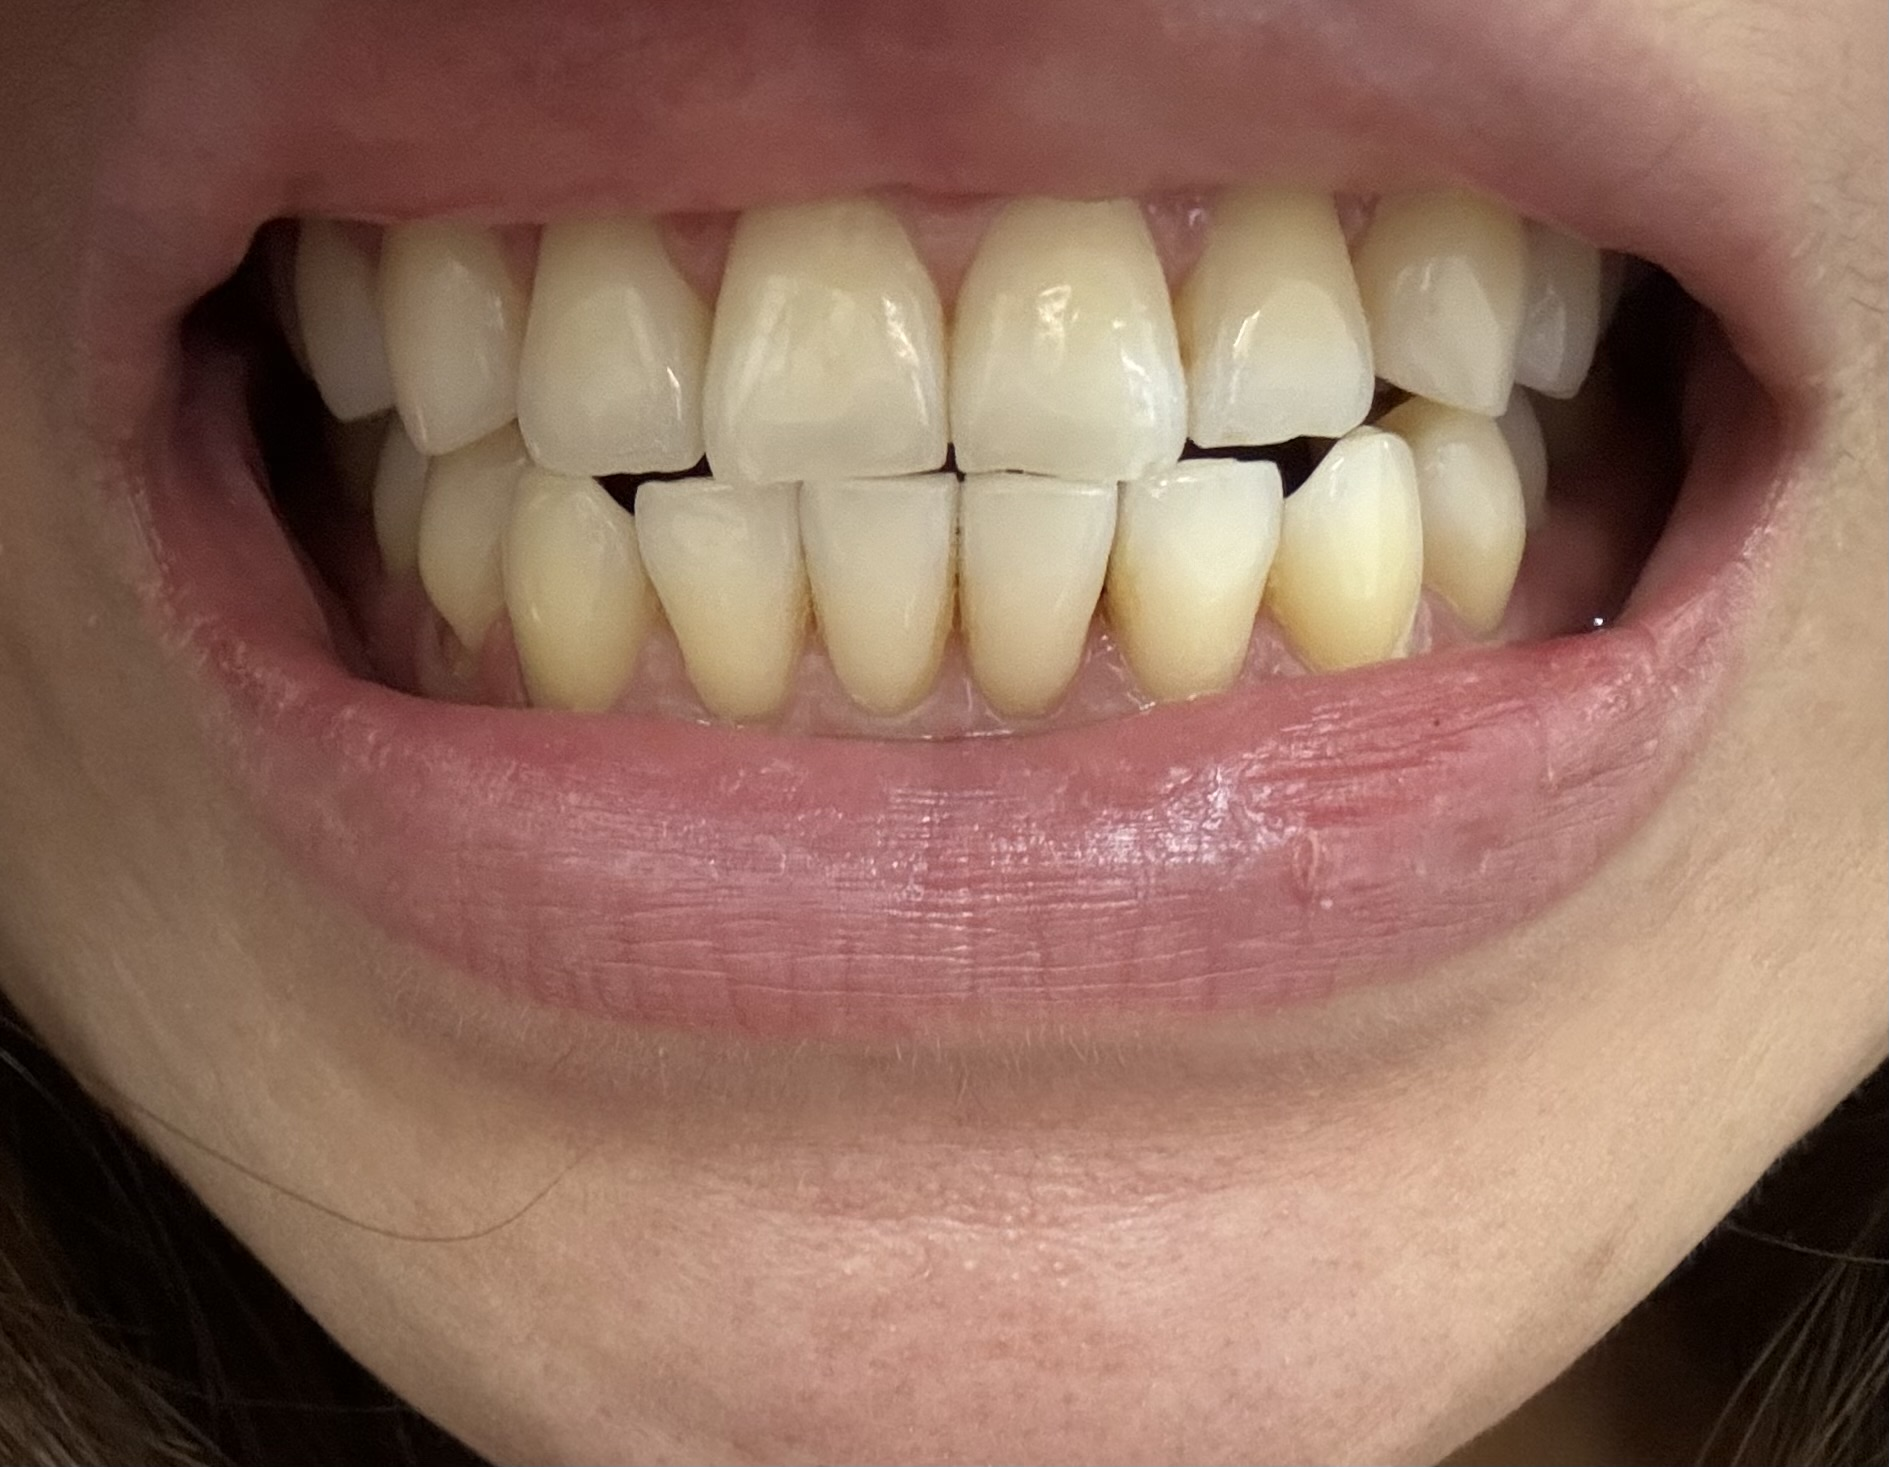teeth: (951, 201, 1187, 469), (710, 216, 944, 472), (524, 215, 695, 463), (1197, 202, 1369, 432), (636, 491, 794, 719), (966, 484, 1116, 708), (1121, 472, 1273, 690), (1381, 208, 1523, 414), (1291, 437, 1417, 667), (388, 228, 514, 448), (509, 471, 624, 708), (820, 484, 938, 696), (1427, 414, 1526, 622), (419, 457, 492, 647), (297, 231, 376, 399)
